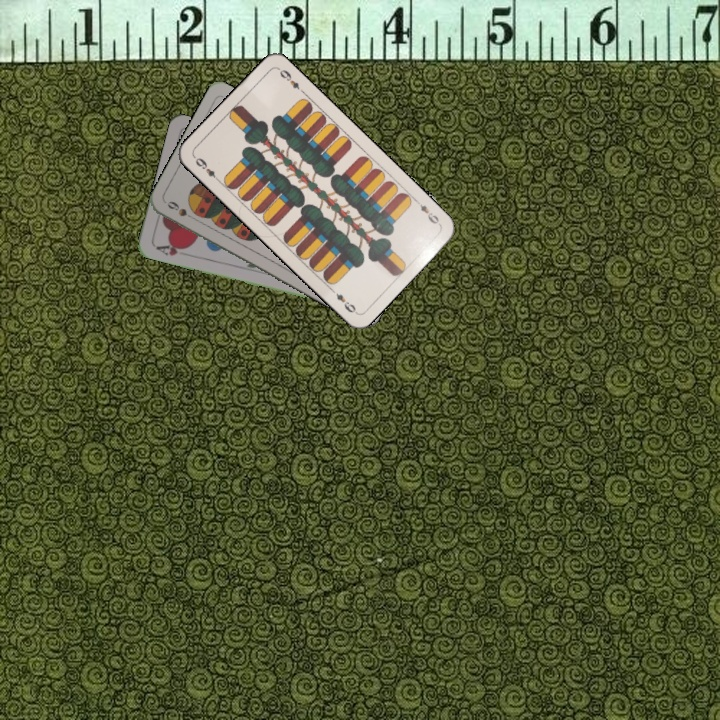E9: (411, 195, 443, 228), (190, 153, 223, 184)
HA: (152, 239, 191, 259)
S9: (163, 197, 200, 224)
